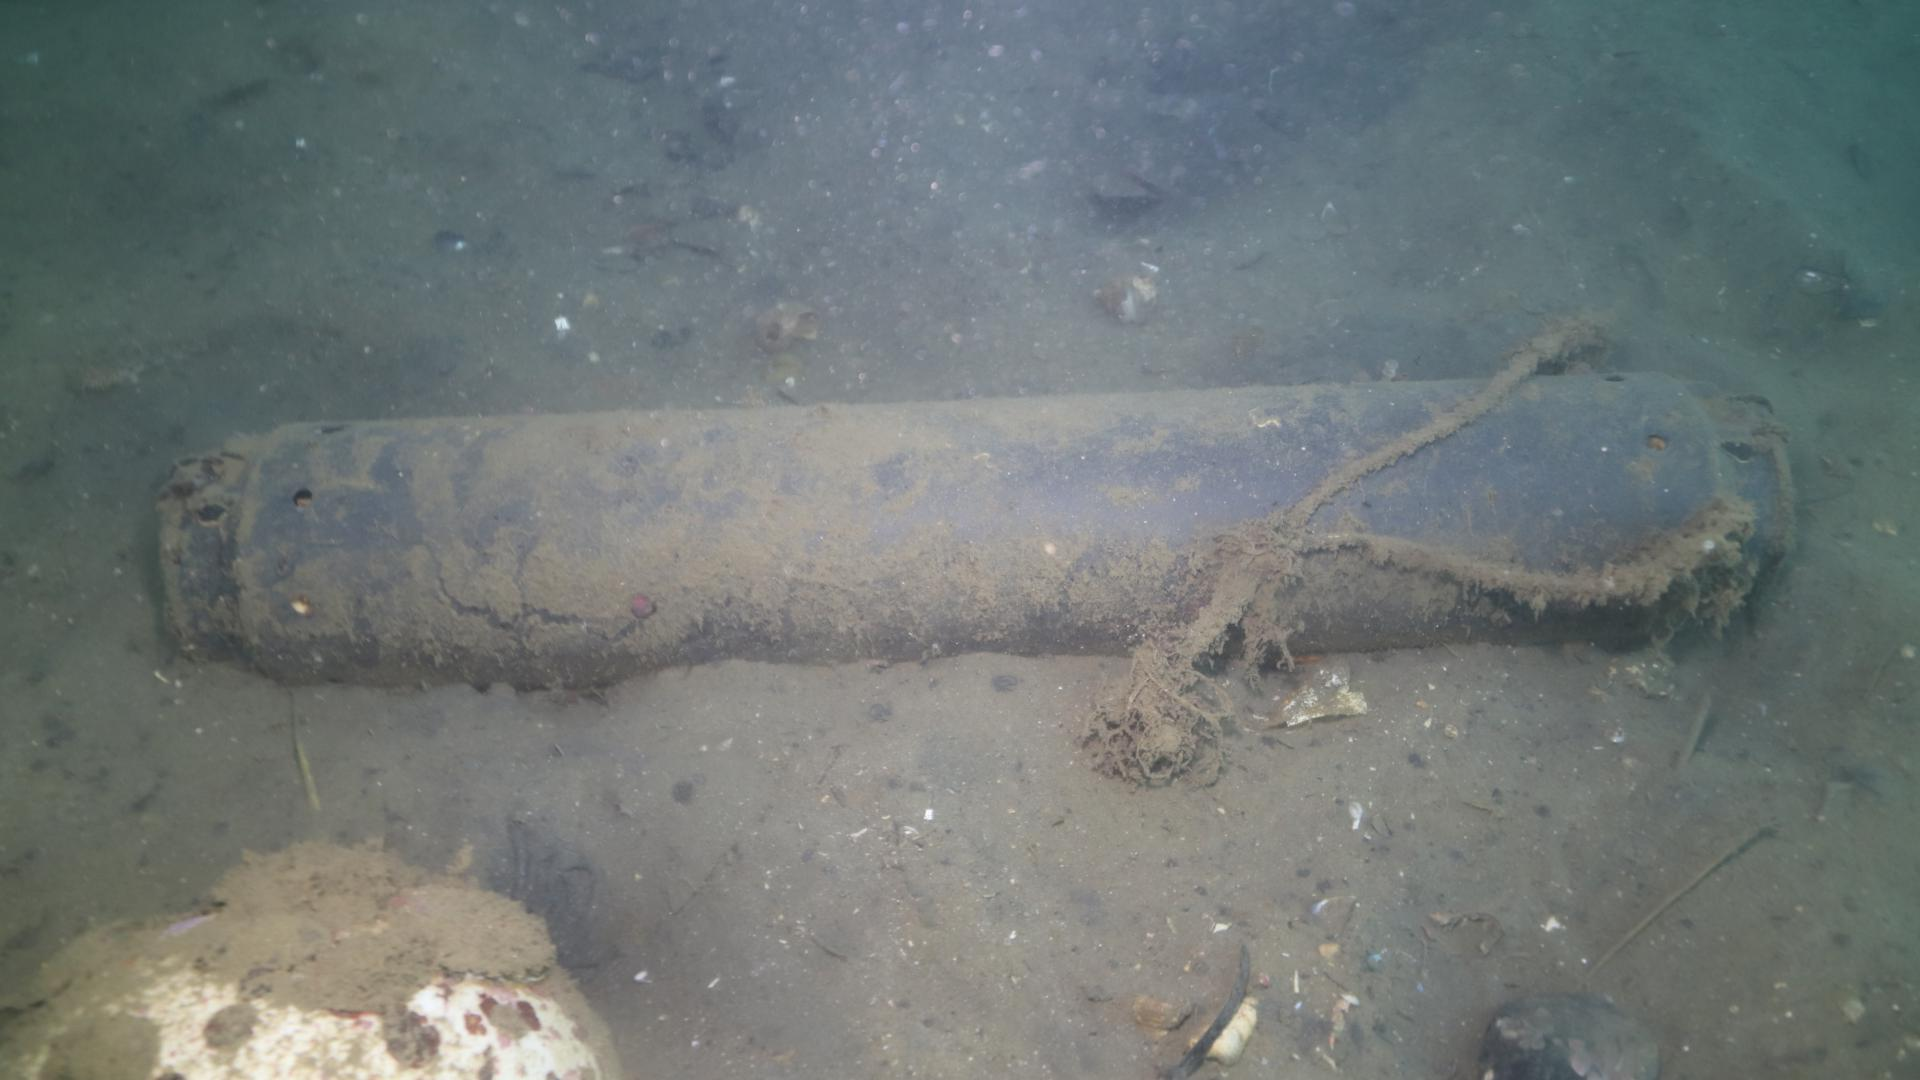eel fish trap: (154, 365, 1807, 688)
rope: (1265, 324, 1755, 640)
